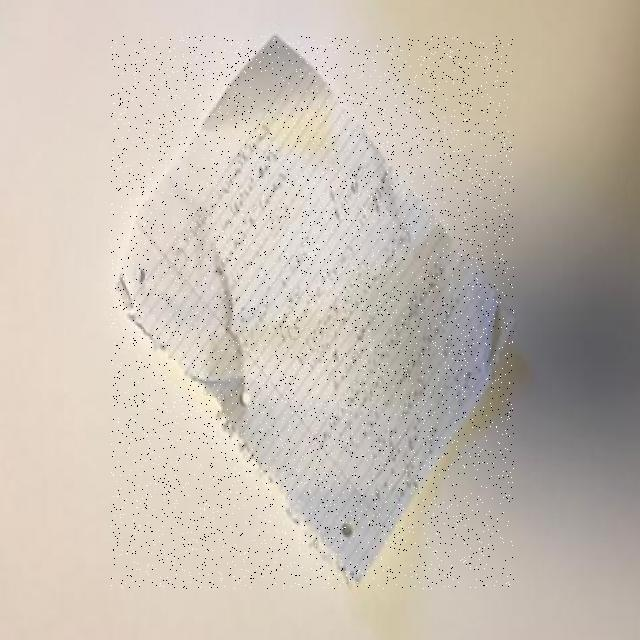paper: (111, 36, 514, 589)
